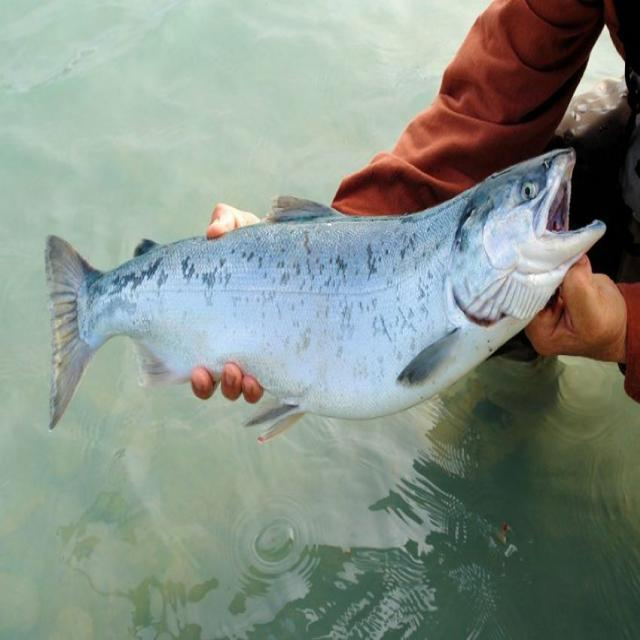salmon: (46, 133, 612, 454)
